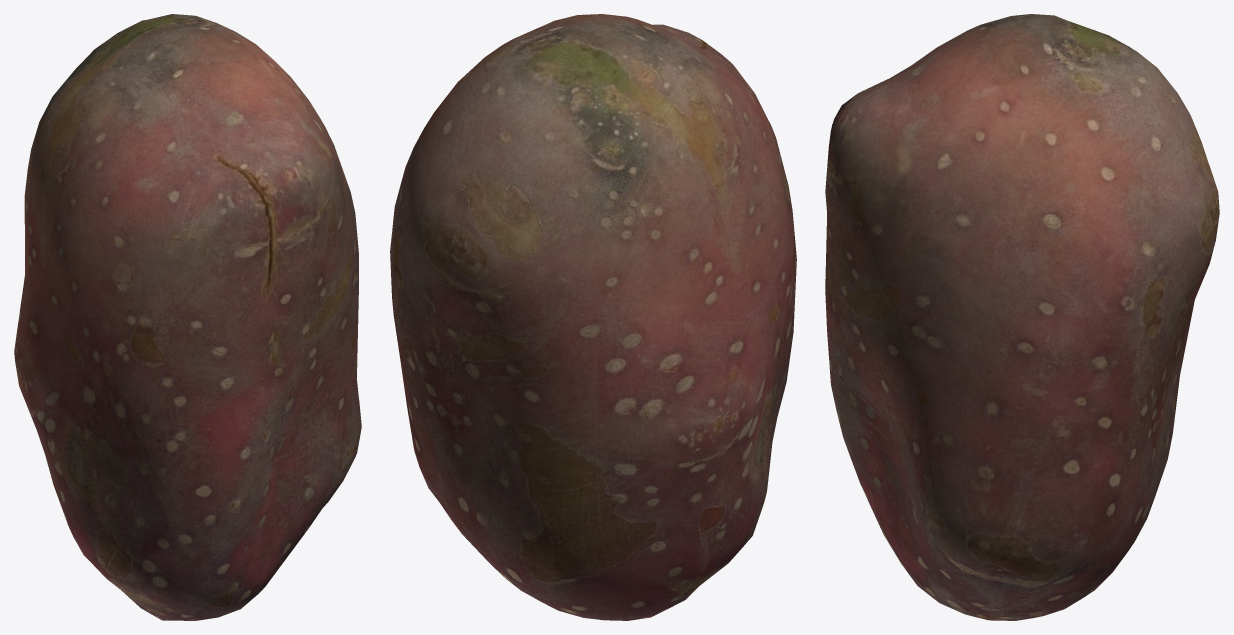
The model's file is prod_sweetpotato.glb.
3 views of the same model, side by side, from view 1: azimuth 30°, elevation 25°; view 2: azimuth 150°, elevation 25°; view 3: azimuth 270°, elevation 25° (orthographic). The views are drawn at different scales.
Visible parts, largest first — view 1: sweet_potato; view 2: sweet_potato; view 3: sweet_potato.
Boxes of the visible parts, <box> form: sweet_potato: <box>14,14,361,620</box>; sweet_potato: <box>390,14,796,620</box>; sweet_potato: <box>825,14,1219,620</box>.
Size of the model in its own units: 0.0581 by 0.1005 by 0.061.
1 material, 1 textured.
